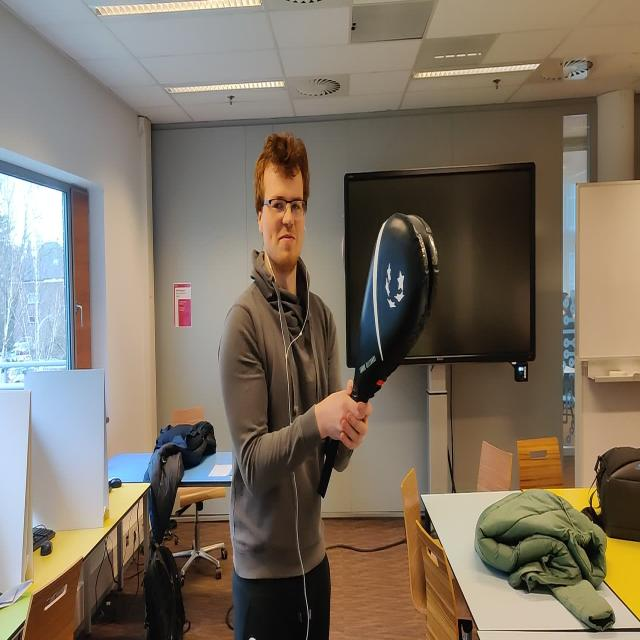paddle: (351, 213, 440, 402)
